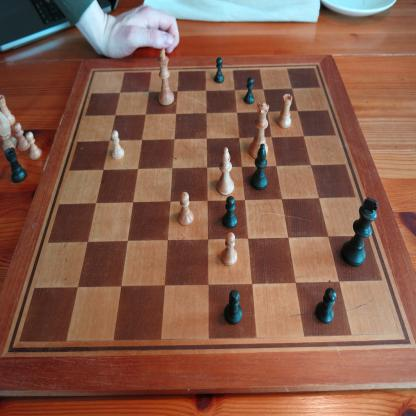black-bishop: (250, 141, 270, 192)
black-king: (337, 194, 380, 271)
black-pawn: (310, 285, 339, 330), (222, 288, 245, 327), (222, 196, 243, 230), (242, 75, 257, 108), (212, 52, 226, 85)
black-rook: (4, 146, 27, 187)
white-bishop: (214, 143, 235, 195)
white-king: (157, 47, 176, 107)
white-pawn: (176, 190, 196, 228), (109, 126, 128, 164), (12, 119, 31, 155), (26, 128, 43, 165), (222, 231, 238, 266)
white-queen: (248, 100, 270, 159)
white-rook: (278, 92, 294, 132)
